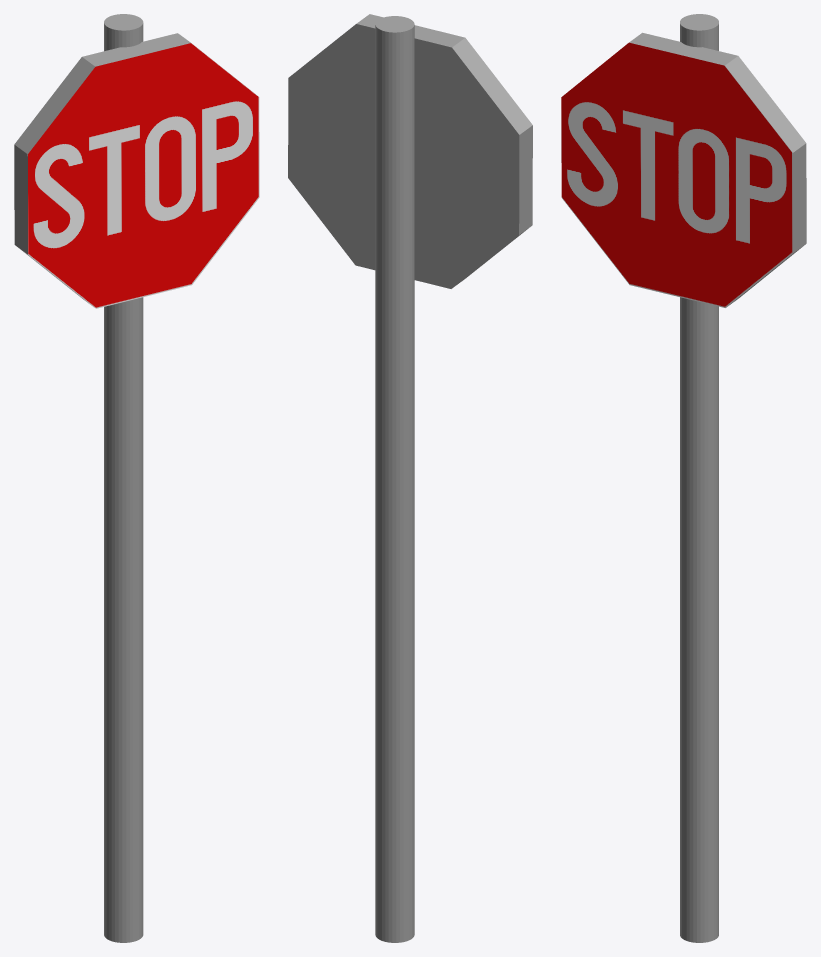
File: ЗнакСтоп.fbx
3 views of the same model, side by side, from view 1: azimuth 30°, elevation 25°; view 2: azimuth 150°, elevation 25°; view 3: azimuth 330°, elevation 25° (orthographic).
Parts seen in each view (by area): view 1: Знак; view 2: Знак; view 3: Знак.
Part boxes in pixels (left/top/right/bottom): Знак: left=14, top=14, right=259, bottom=942; Знак: left=288, top=14, right=532, bottom=942; Знак: left=561, top=14, right=806, bottom=942.
Bounding box in the file's own units: 65.82 × 284 × 1068.
Materials: 2 (1 with a texture image).
